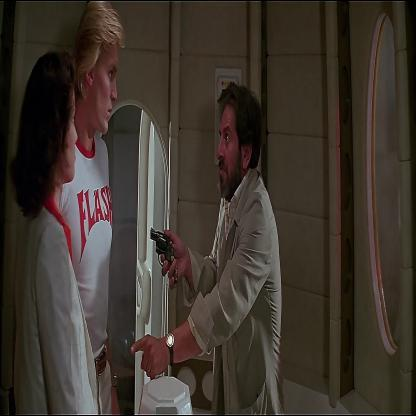gun: (145, 206, 184, 288)
